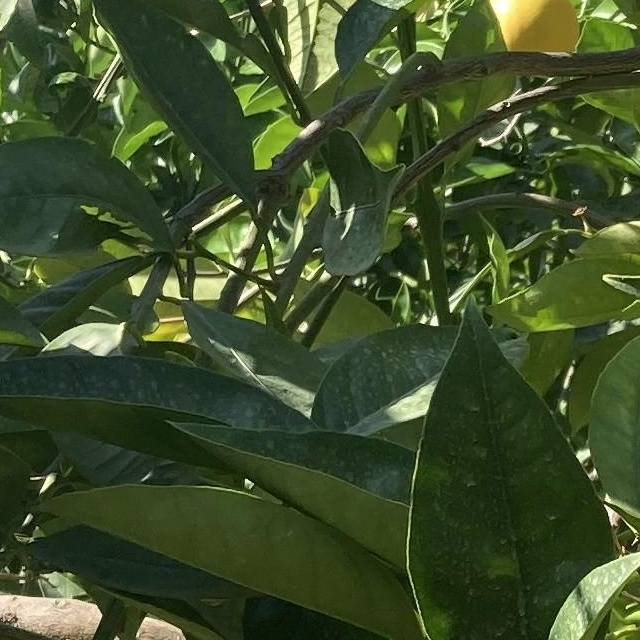orange: (483, 0, 577, 56)
